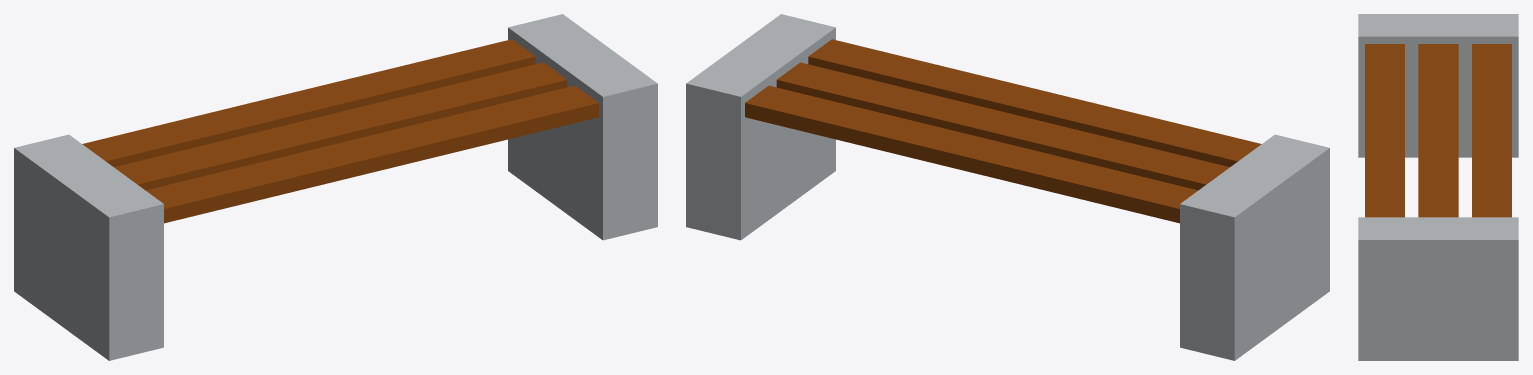
Rendered from Bench.fbx.
The picture shows the model from 3 angles, left to right: view 1: azimuth 30°, elevation 25°; view 2: azimuth 150°, elevation 25°; view 3: azimuth 270°, elevation 25°; orthographic projection. The views are drawn at different scales.
Visible parts, largest first — view 1: Bench; view 2: Bench; view 3: Bench.
Boxes of the visible parts, <box> form: Bench: <box>14,14,657,360</box>; Bench: <box>686,14,1329,360</box>; Bench: <box>1358,14,1518,360</box>.
Bounding box in the file's own units: 200 × 50 × 60.
